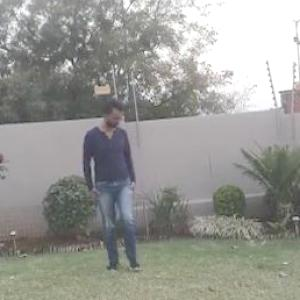follow: (84, 93, 142, 277)
